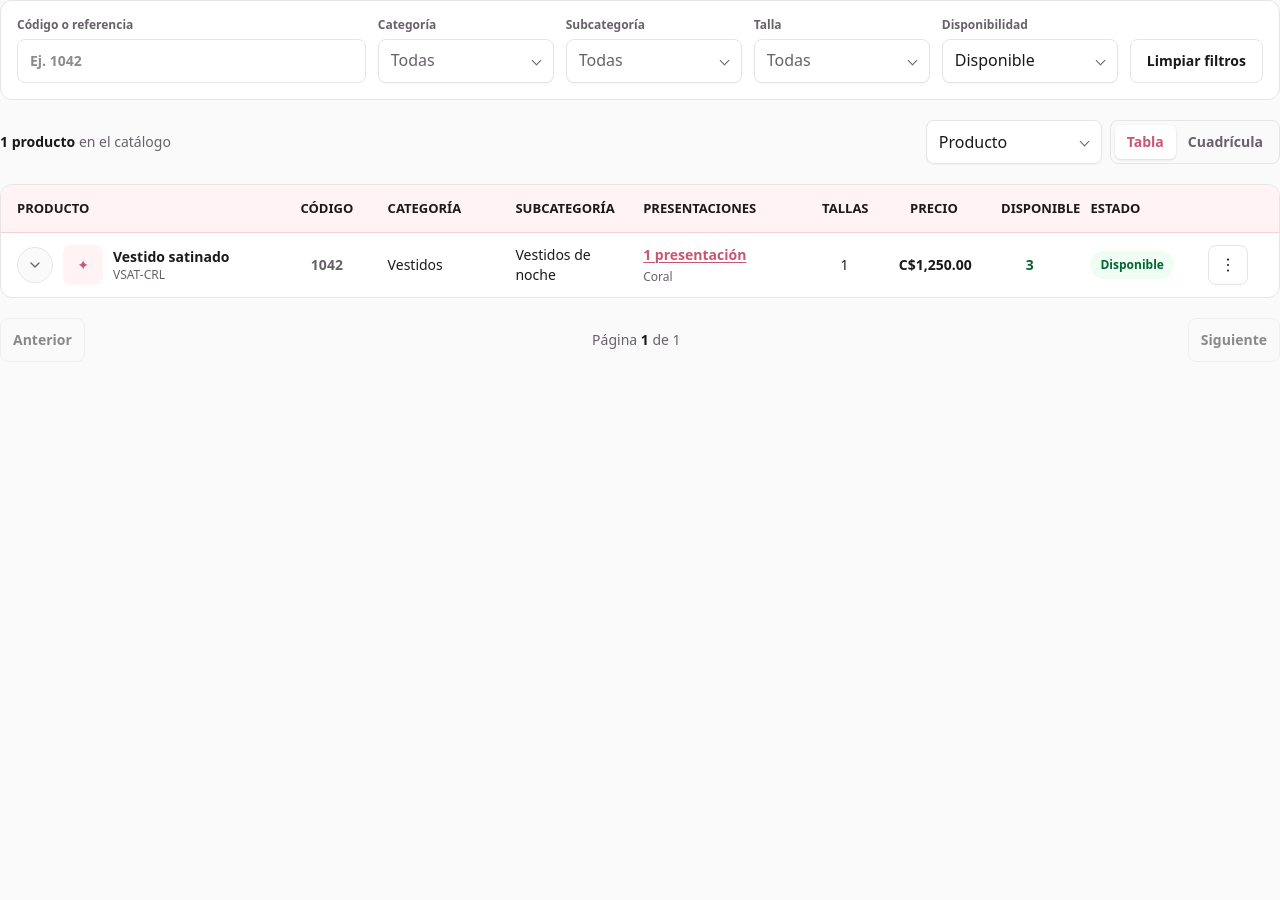
it: ProductsPage › shows movement dates as calendar dates
Click the button named "Ver detalles de Vestido satinado" at [35, 265], box [17, 247, 53, 283]
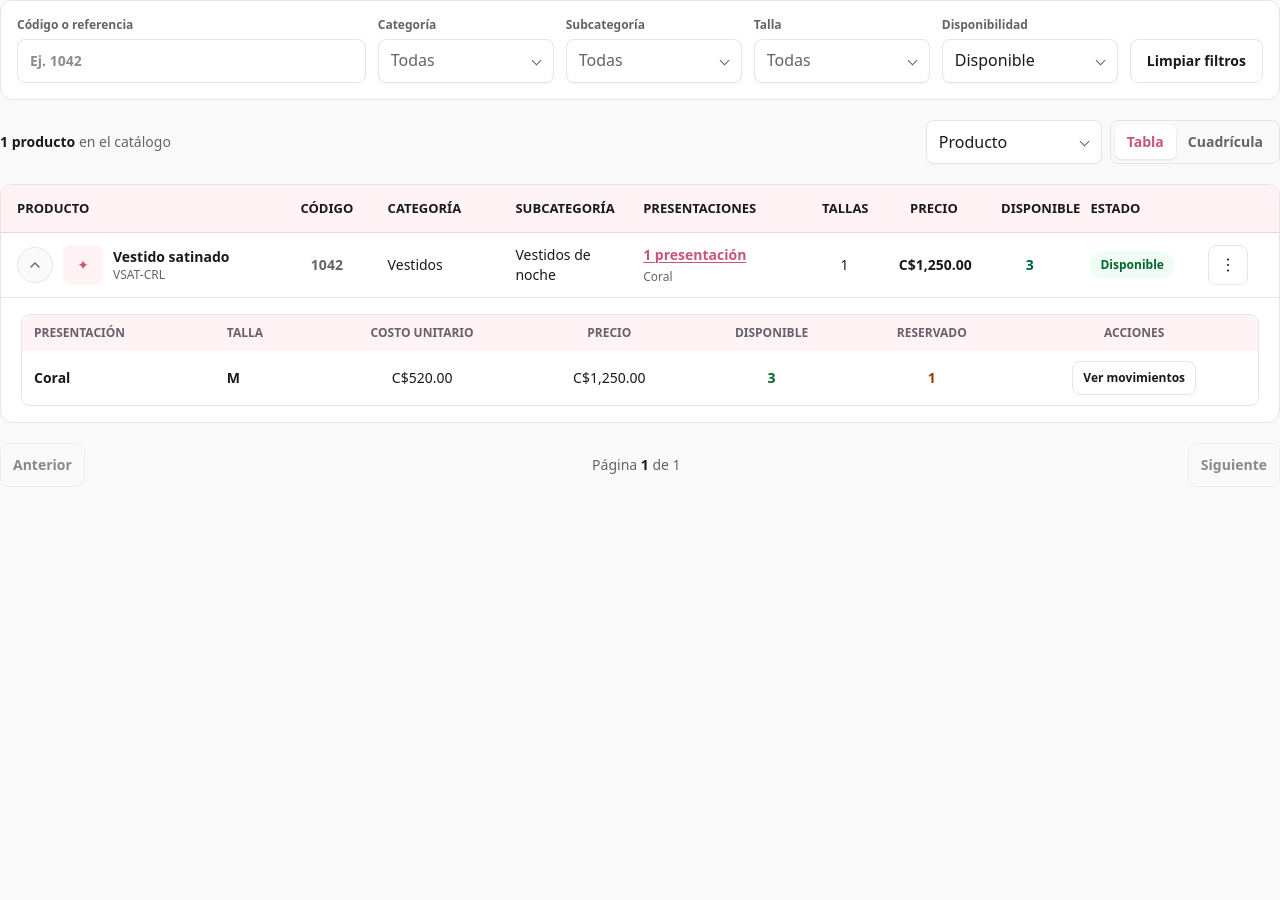
Click the button with aria-label "Ver movimientos de Coral · M" at [1134, 378], box [1072, 361, 1196, 395]
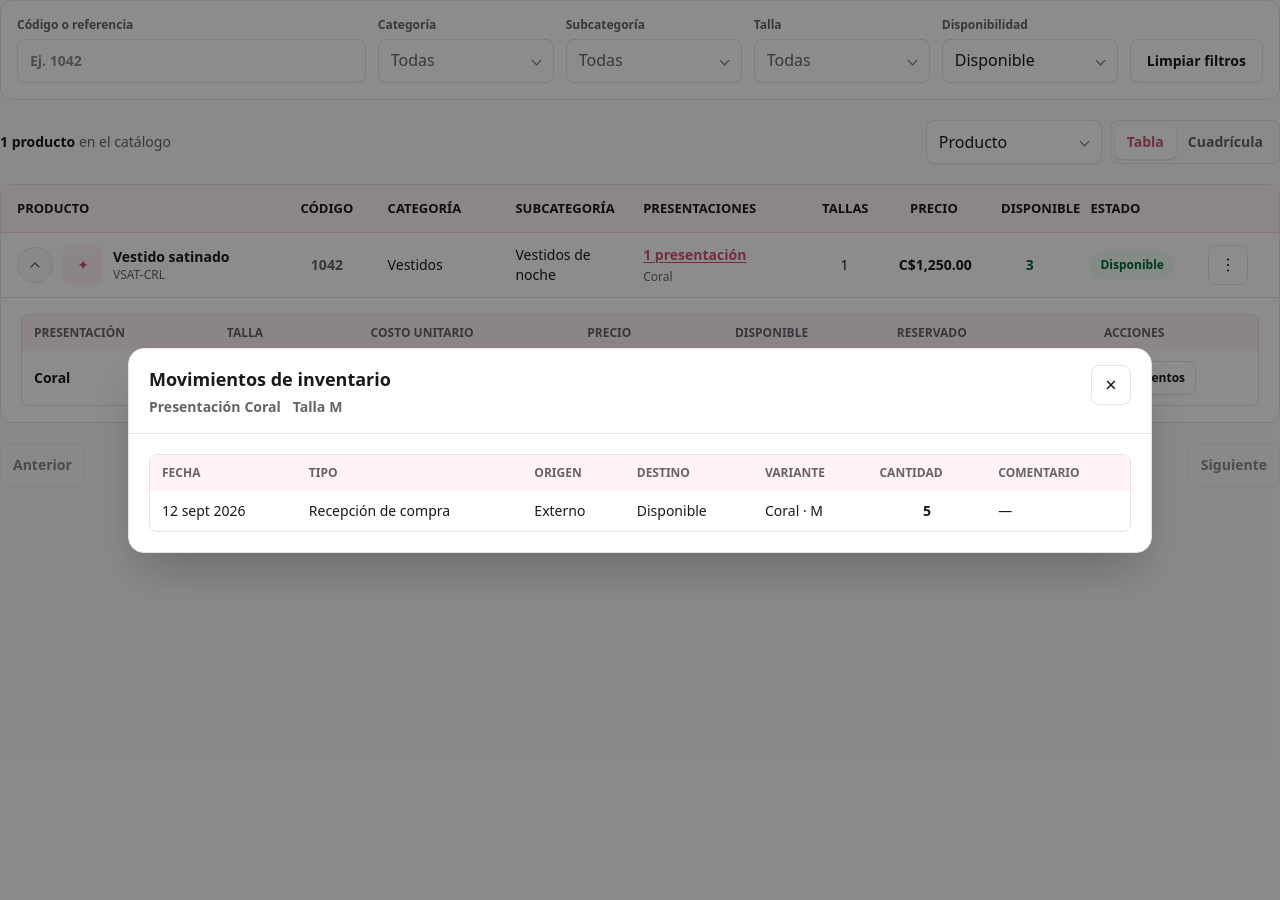
Result: the dialog "Movimientos de inventario" shows "12 sept 2026" at [162, 500, 246, 520]
